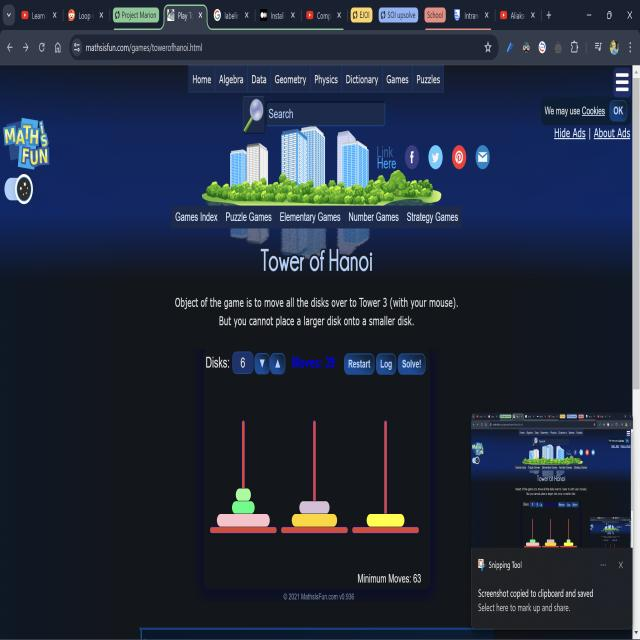disk1: (236, 488, 251, 502)
disk2: (232, 501, 254, 514)
disk3: (299, 501, 330, 514)
disk4: (366, 514, 404, 527)
disk5: (291, 514, 337, 527)
disk6: (217, 514, 270, 527)
